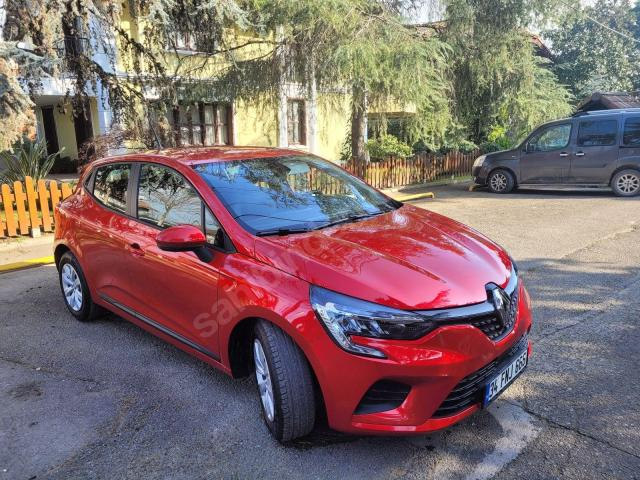plaka: (484, 350, 526, 406)
